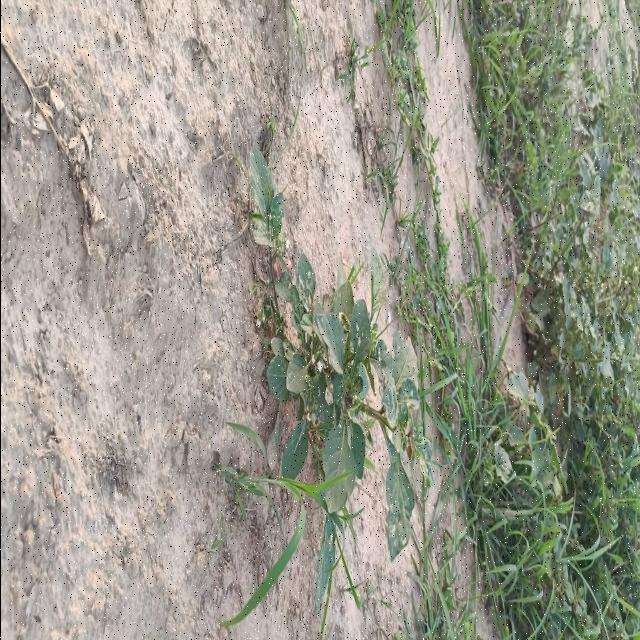weed: (267, 250, 431, 609), (250, 149, 281, 256)
